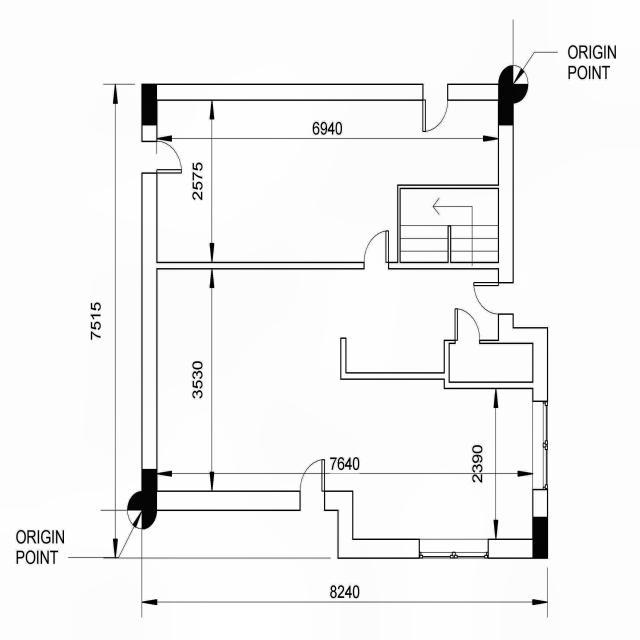Column: (142, 468, 159, 514), (498, 84, 514, 126), (140, 83, 156, 124), (533, 518, 548, 560)
Door: (292, 456, 332, 510), (472, 276, 514, 316), (142, 138, 183, 176), (421, 84, 449, 135), (358, 228, 392, 270), (451, 307, 482, 342)
Staircase: (396, 180, 500, 268)
Window: (416, 537, 490, 562), (531, 400, 549, 491)
